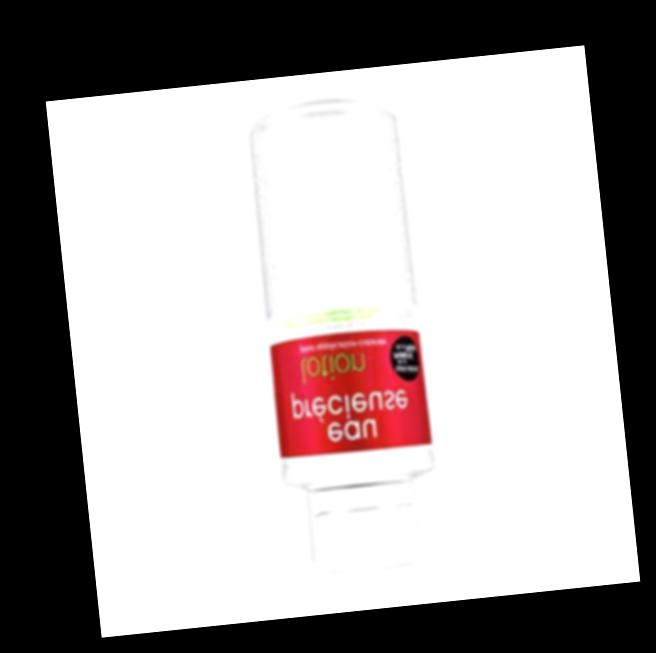cosmetic: (245, 112, 444, 577)
